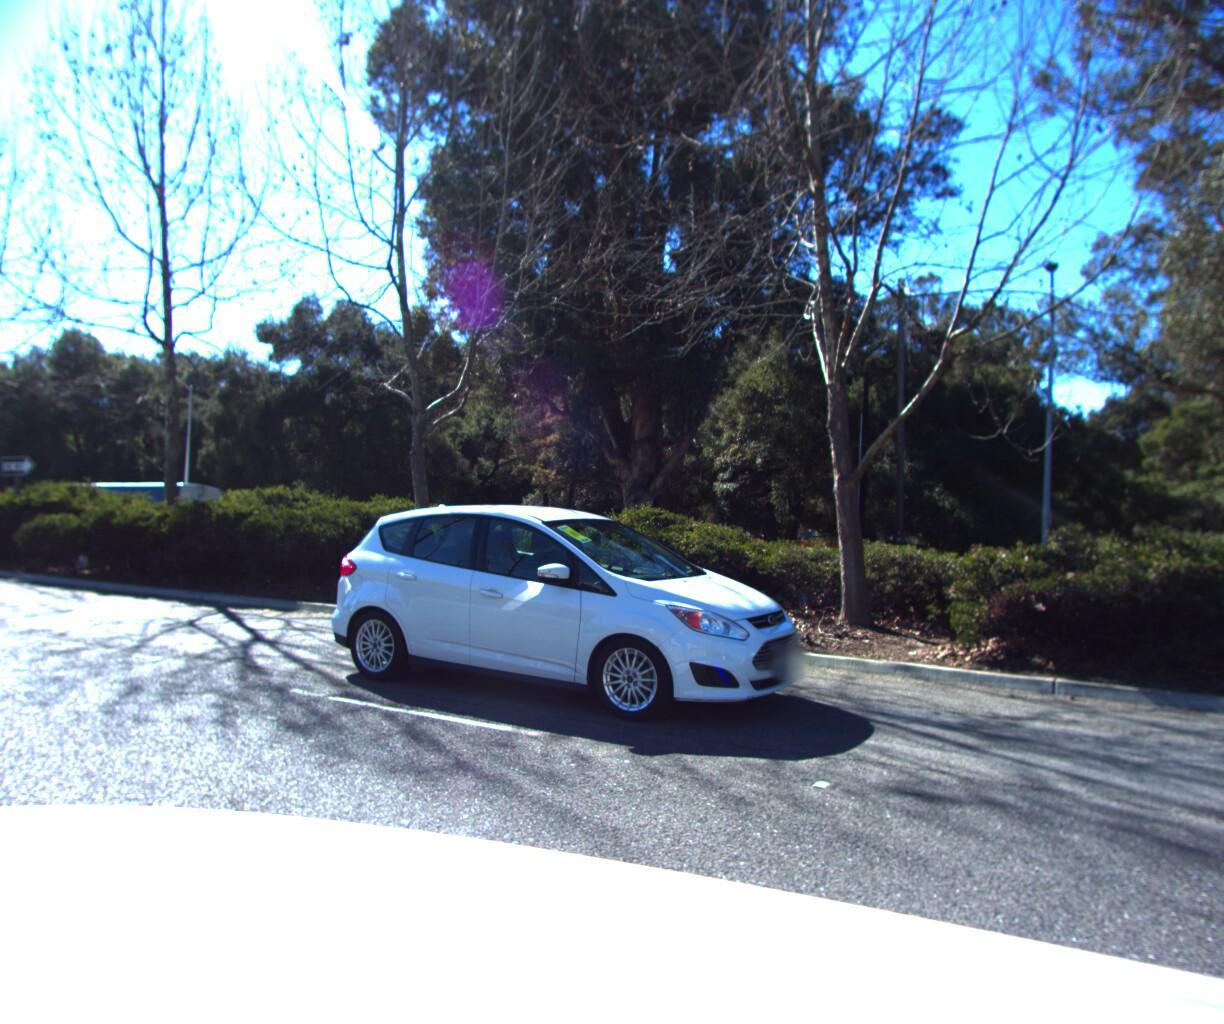bus: (19, 480, 234, 557)
car: (297, 495, 830, 746)
